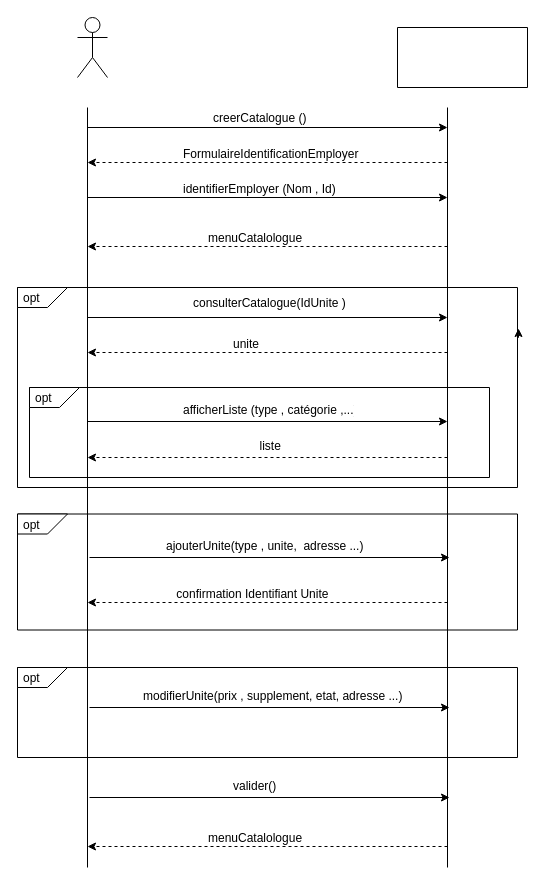
This 545x891 diagram has some shape labels left out. The box of each missing label's shape, as (x1, y1, x2, y2) in pixels:
: Employer: (76, 16, 108, 78)
: Systeme GEST IMMO: (396, 26, 528, 88)
